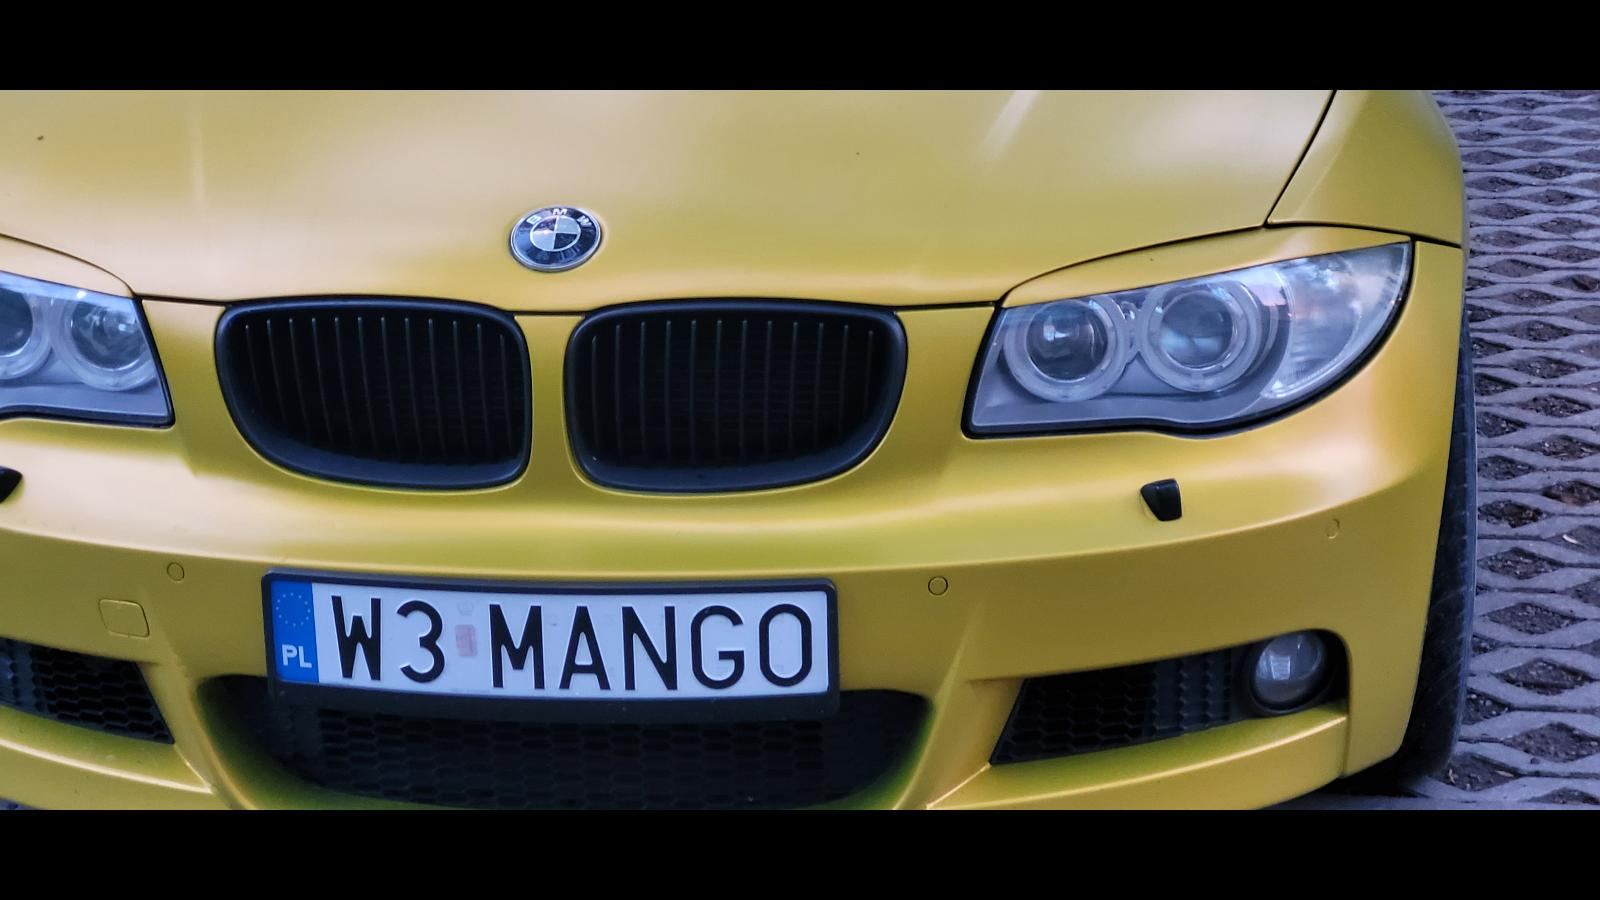plates: (261, 568, 838, 720)
